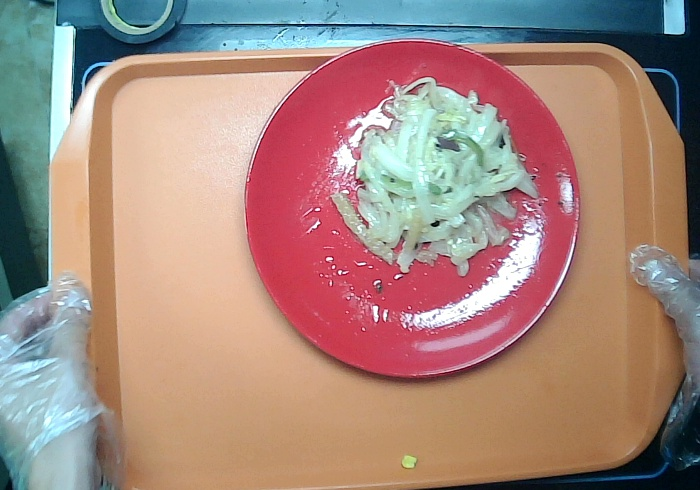HZYJPL-Hong_Se_Yuan_Pan: (242, 36, 580, 380)
